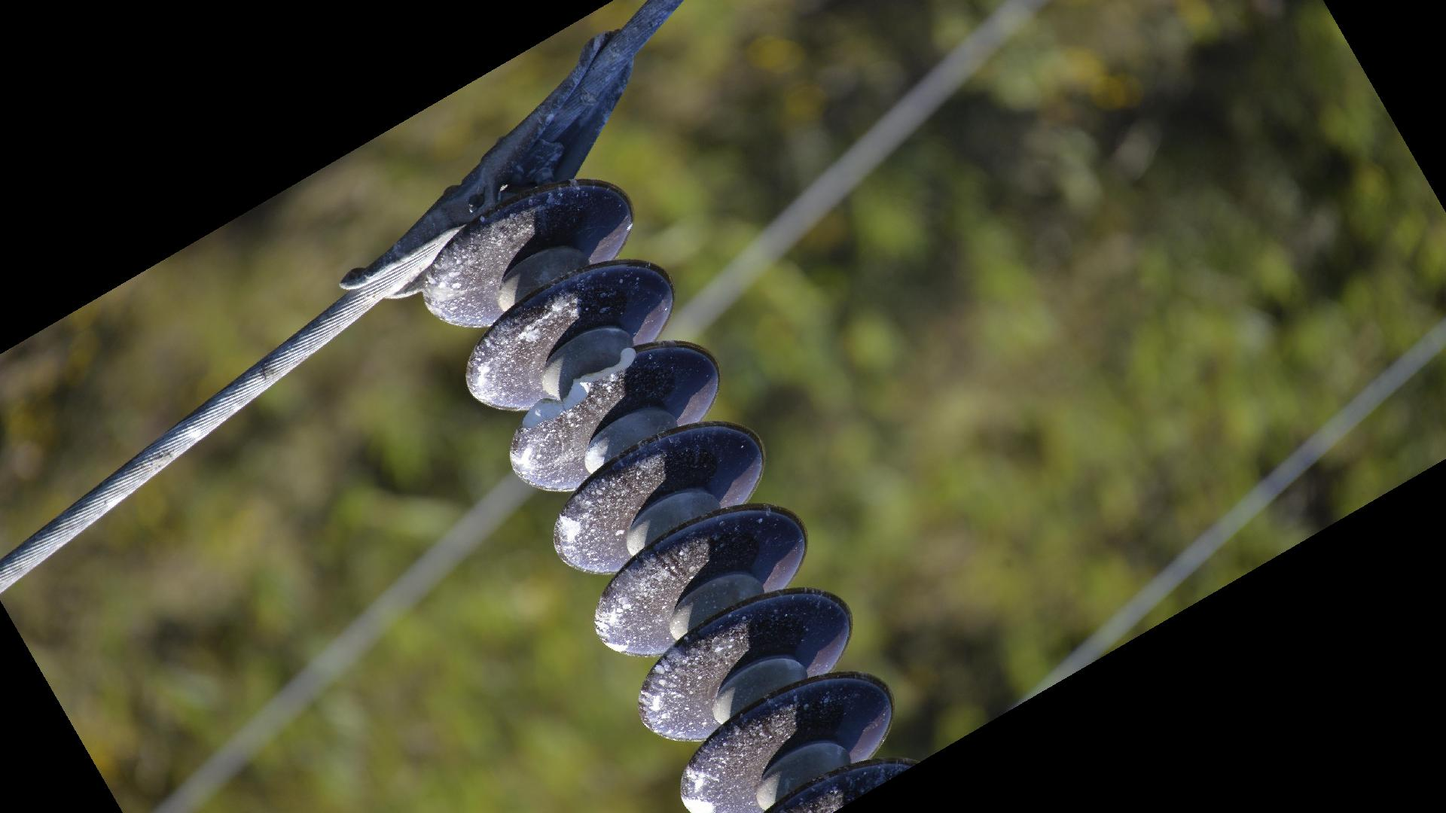insulator: (416, 172, 903, 813)
insulator_breakage: (509, 339, 647, 445)
